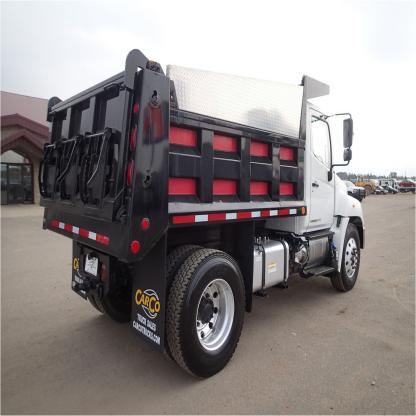dump_truck: (36, 44, 371, 384)
